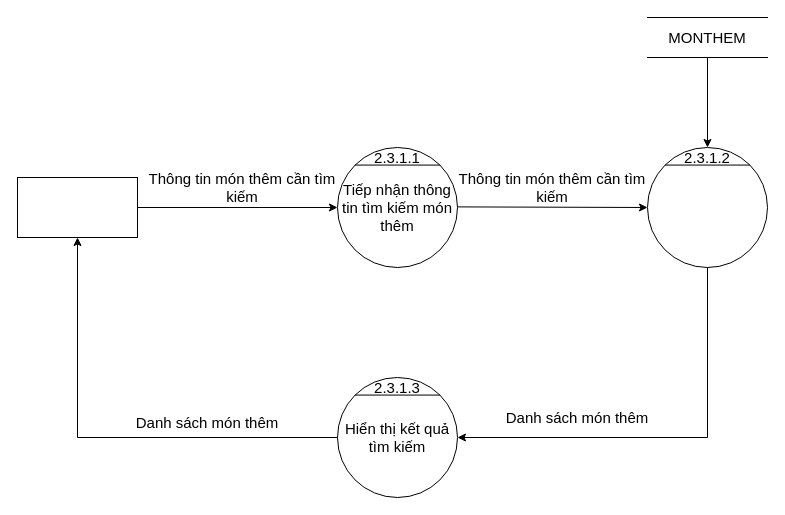
Image size: 785x515. Some labels were removed from this diagram. Each missing label, with the box of its shape:
Nhân viên quản lý: (16, 176, 138, 238)
Xử lý tìm kiếm món thêm: (646, 146, 768, 268)
